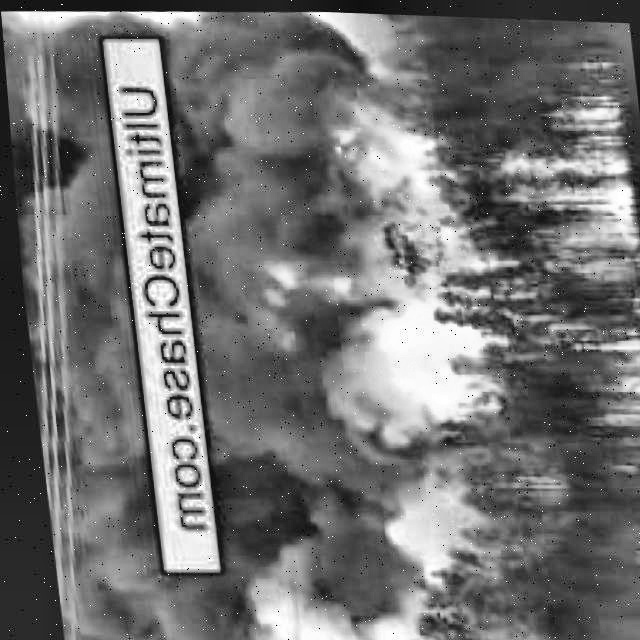Fire: (258, 79, 640, 466), (637, 528, 640, 606)
Smoke: (154, 4, 376, 640), (1, 8, 154, 640), (637, 528, 640, 606)
